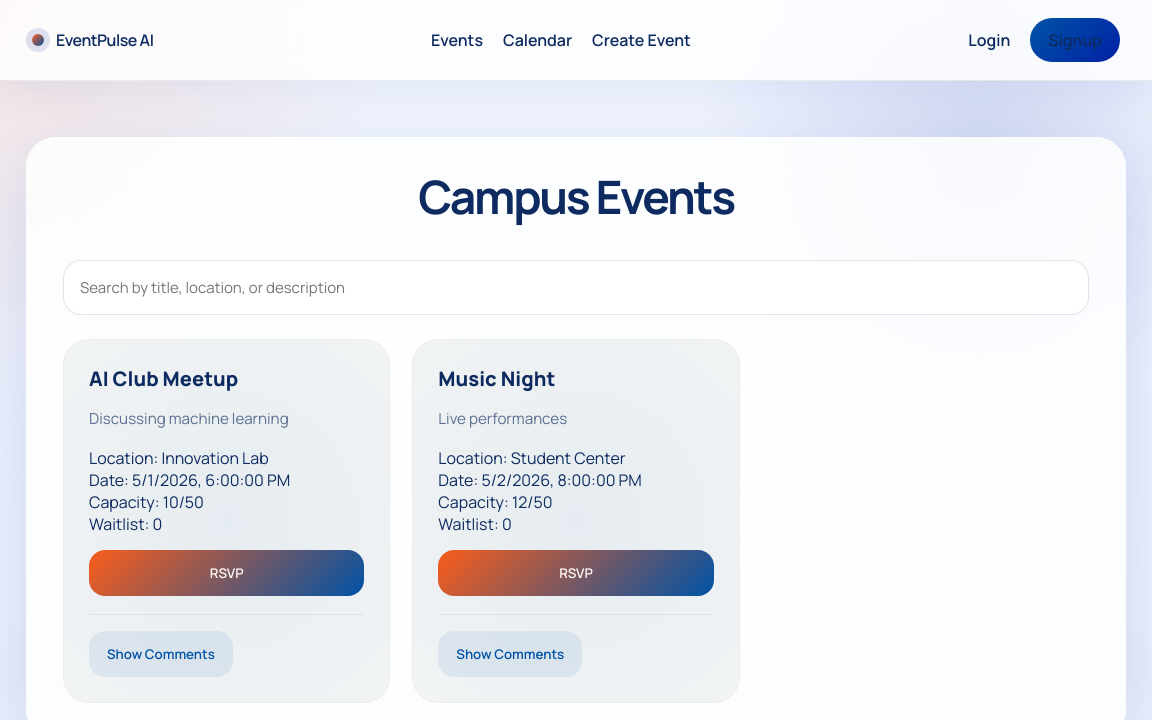
Test: Search Events › filters events by search input
Type "AI Club" into the field with test id "search-input" at [576, 288], box [63,260,1089,315]
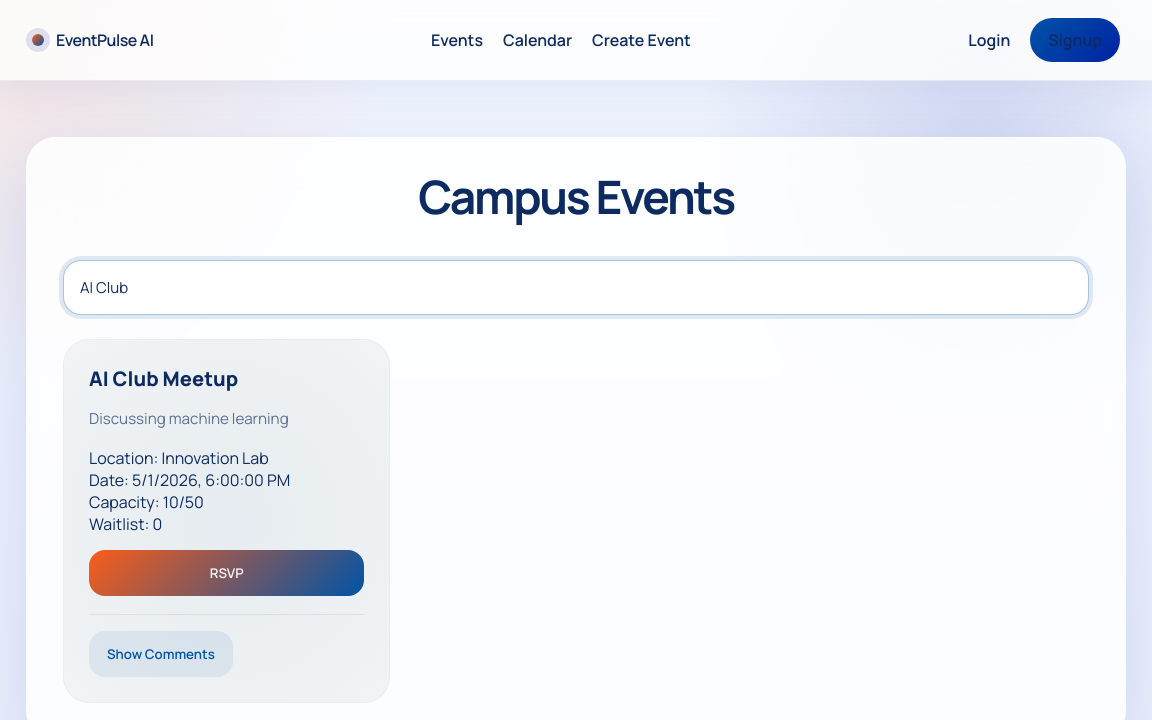
Expected: the heading "AI Club Meetup" is shown, [89,365,238,392]
Expected: the heading "Music Night" is gone
